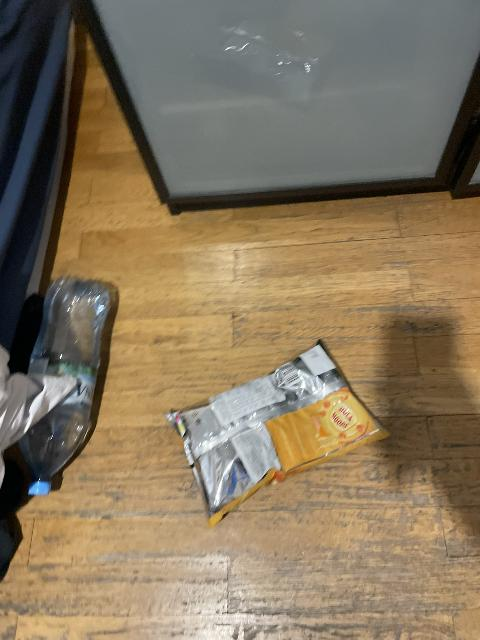Chio Hula Hoops Cheese 70g: (169, 339, 387, 529)
